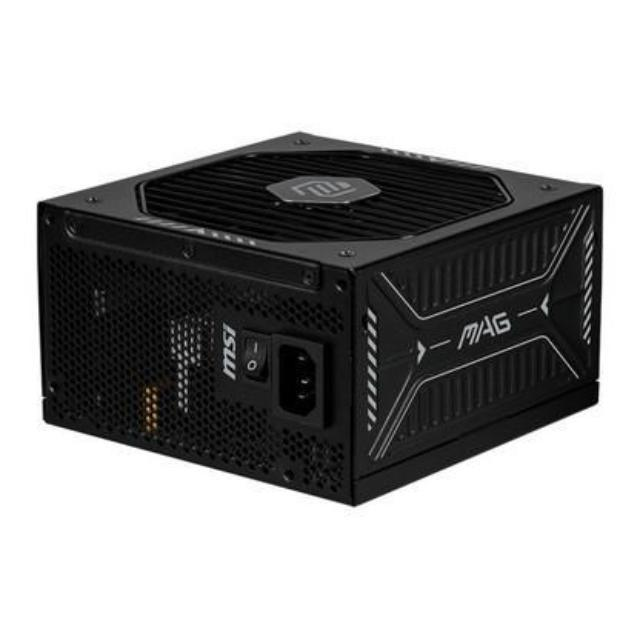PSU: (36, 124, 612, 507)
